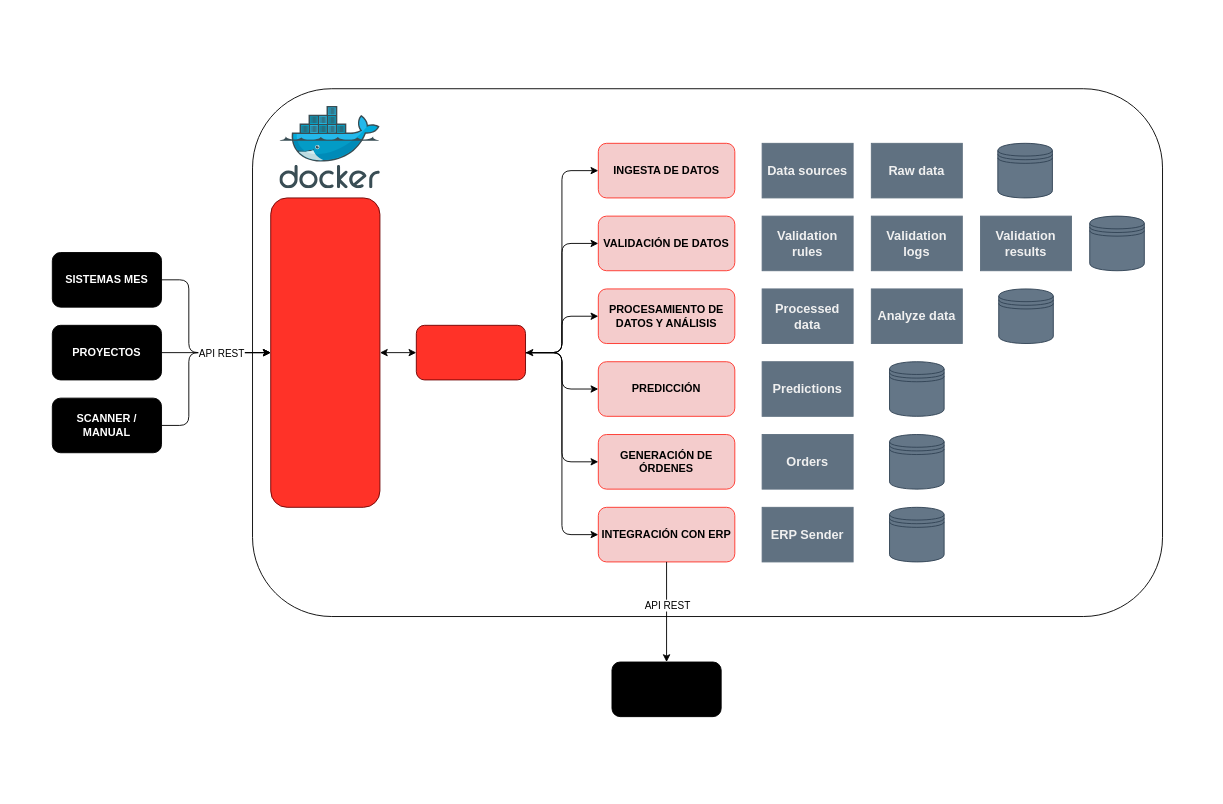
This 1223x804 diagram has some shape labels left out. The shapes that lost their labels are listed below. From the top down, each one's centre as x and y in pixels, then its label:
point (325, 352): GATEWAY
point (470, 352): NATS
point (666, 689): ERP
